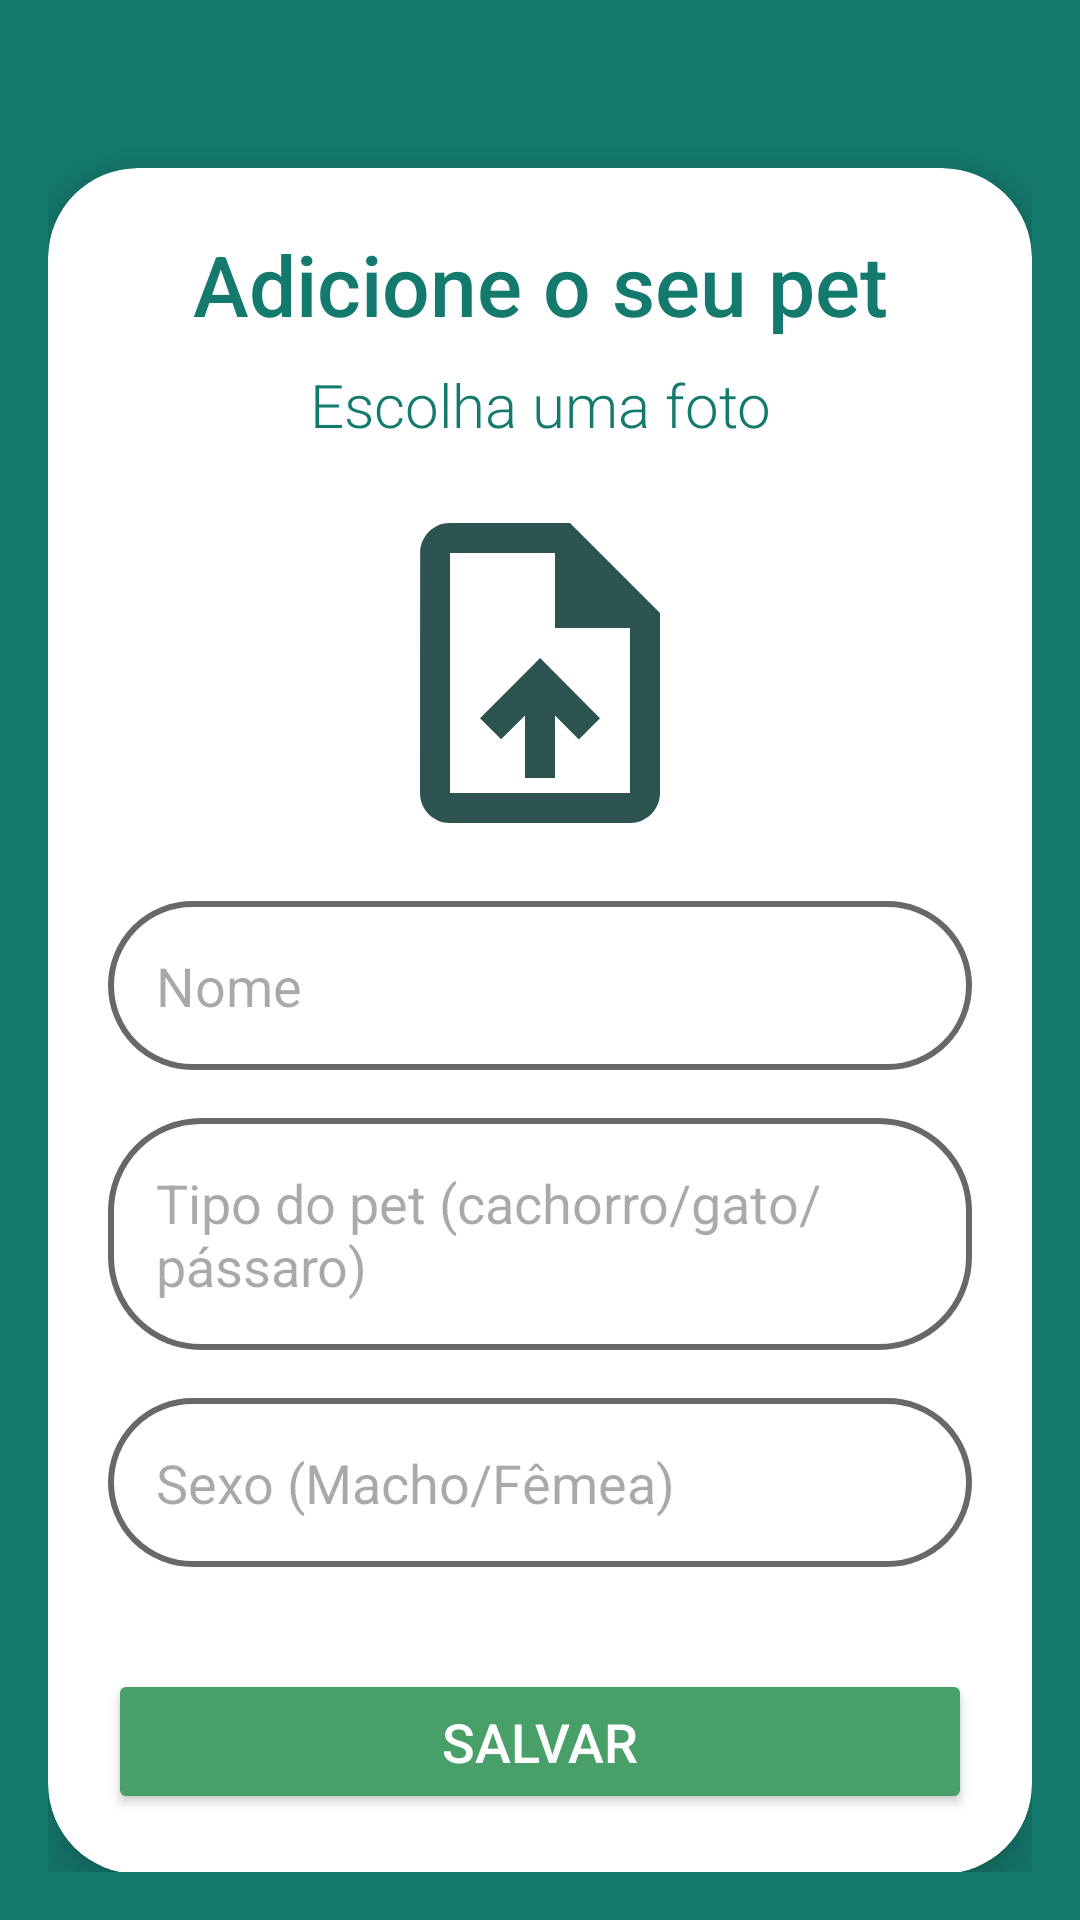

Icons on this 1080px x 1920px Android screen, each with the point to tap as (x,y):
upload file: (540,673)
